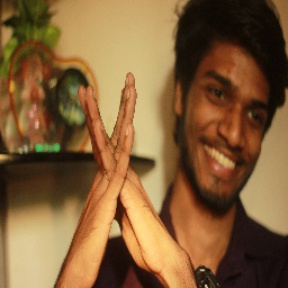W: (67, 66, 171, 278)
